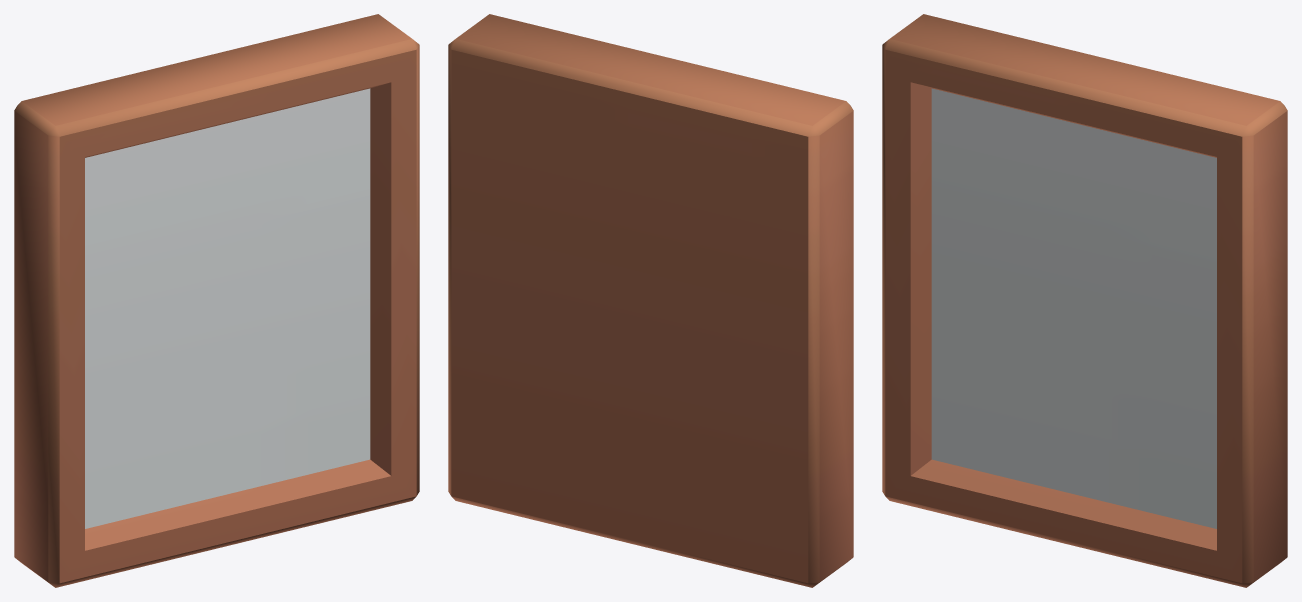
The model's file is picture-frame.glb.
3 views of the same model, side by side, from view 1: azimuth 30°, elevation 25°; view 2: azimuth 150°, elevation 25°; view 3: azimuth 330°, elevation 25° (orthographic).
Visible parts, largest first — view 1: pictureframe_large_A; view 2: pictureframe_large_A; view 3: pictureframe_large_A.
Boxes of the visible parts, left/top/right/bottom form: pictureframe_large_A: left=14, top=14, right=419, bottom=587; pictureframe_large_A: left=448, top=14, right=853, bottom=587; pictureframe_large_A: left=882, top=14, right=1287, bottom=587.
Size of the model in its own units: 0.7575 by 0.9 by 0.15.
Materials: 1 (1 with a texture image).
